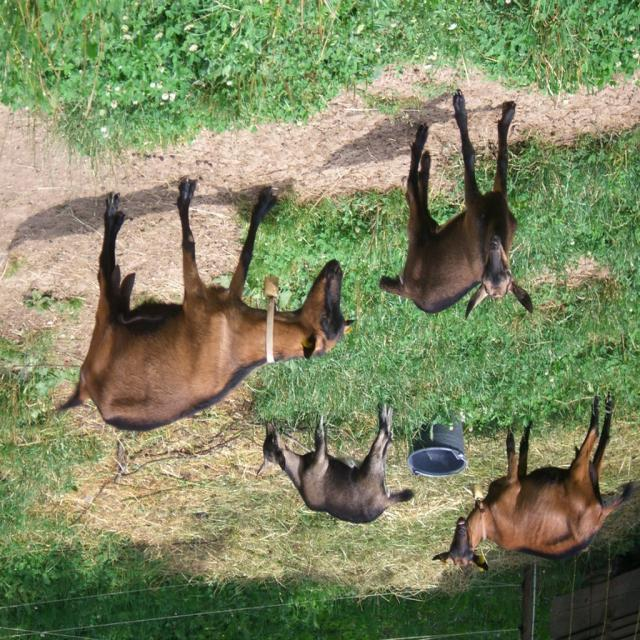Goat: (55, 176, 356, 434), (431, 392, 634, 574), (378, 90, 533, 322), (256, 401, 414, 526)
